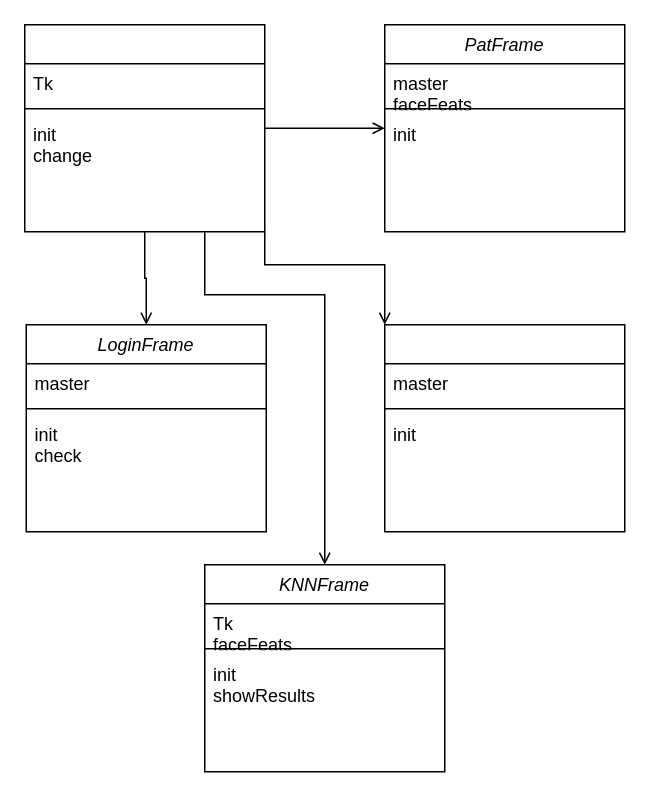
Some shapes in this 650 by 797 pixel diagram are drawn without their labels. The shapes that lost their labels are listed below. From the top down, each one's box as (x1, y1, x2, y2) in pixels, then its label:
(23, 23, 265, 232): MainFrame
(383, 323, 625, 532): StartFrame
